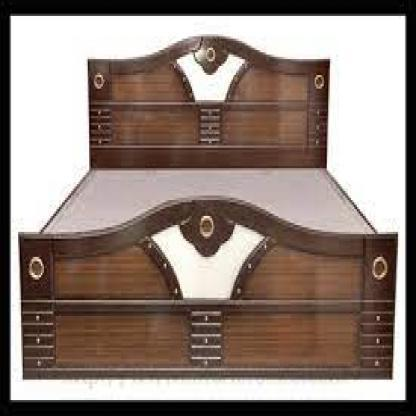bed: (15, 53, 399, 380)
